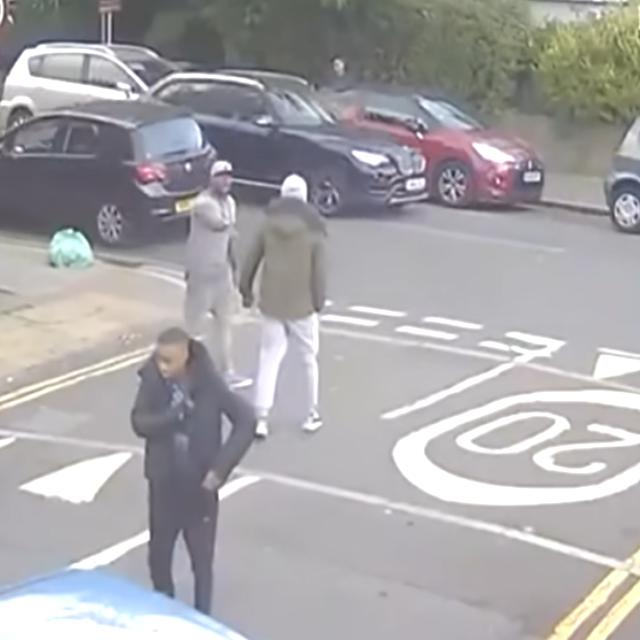Car: (153, 61, 425, 220), (0, 98, 233, 270), (329, 70, 549, 217), (0, 32, 180, 124), (583, 89, 640, 247)
